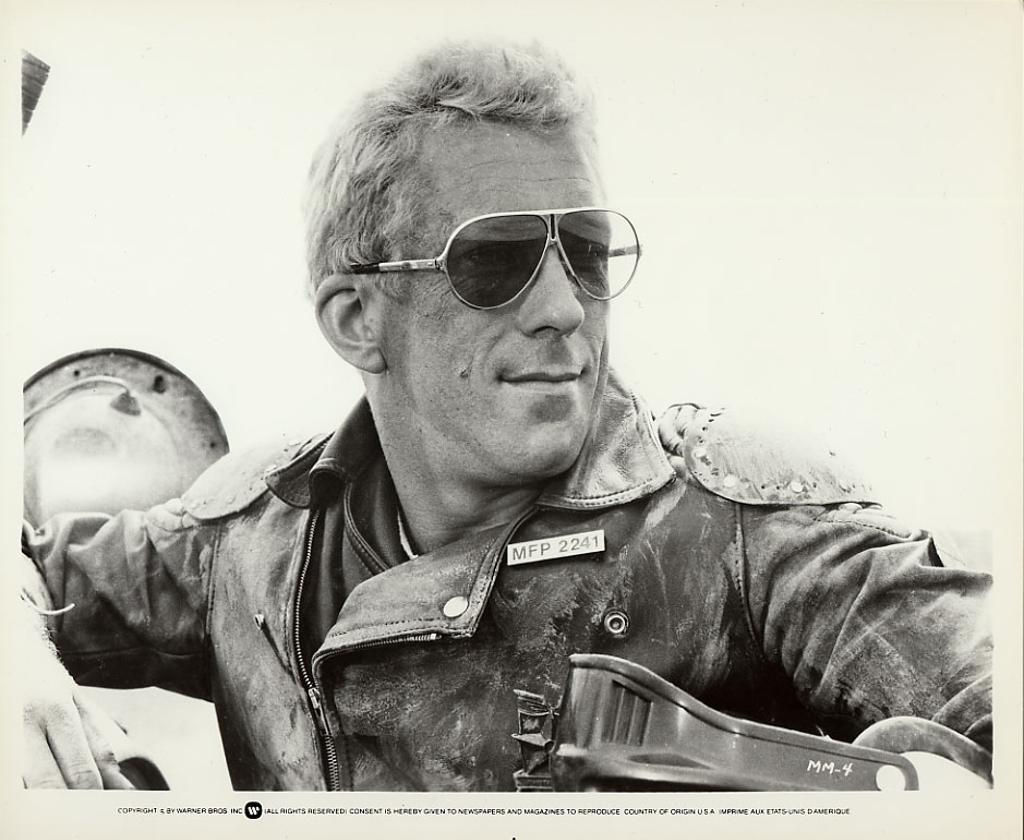face: (379, 115, 607, 477)
